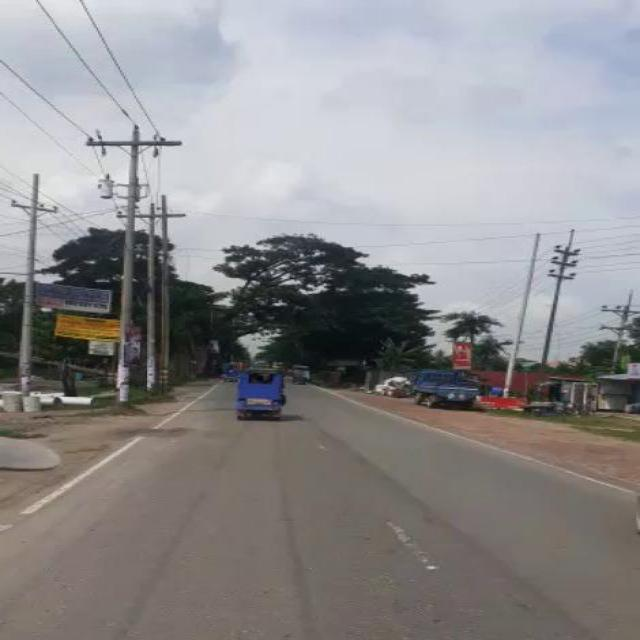vehicle: (409, 367, 477, 407), (232, 368, 282, 416), (216, 360, 239, 378), (288, 363, 310, 381)
